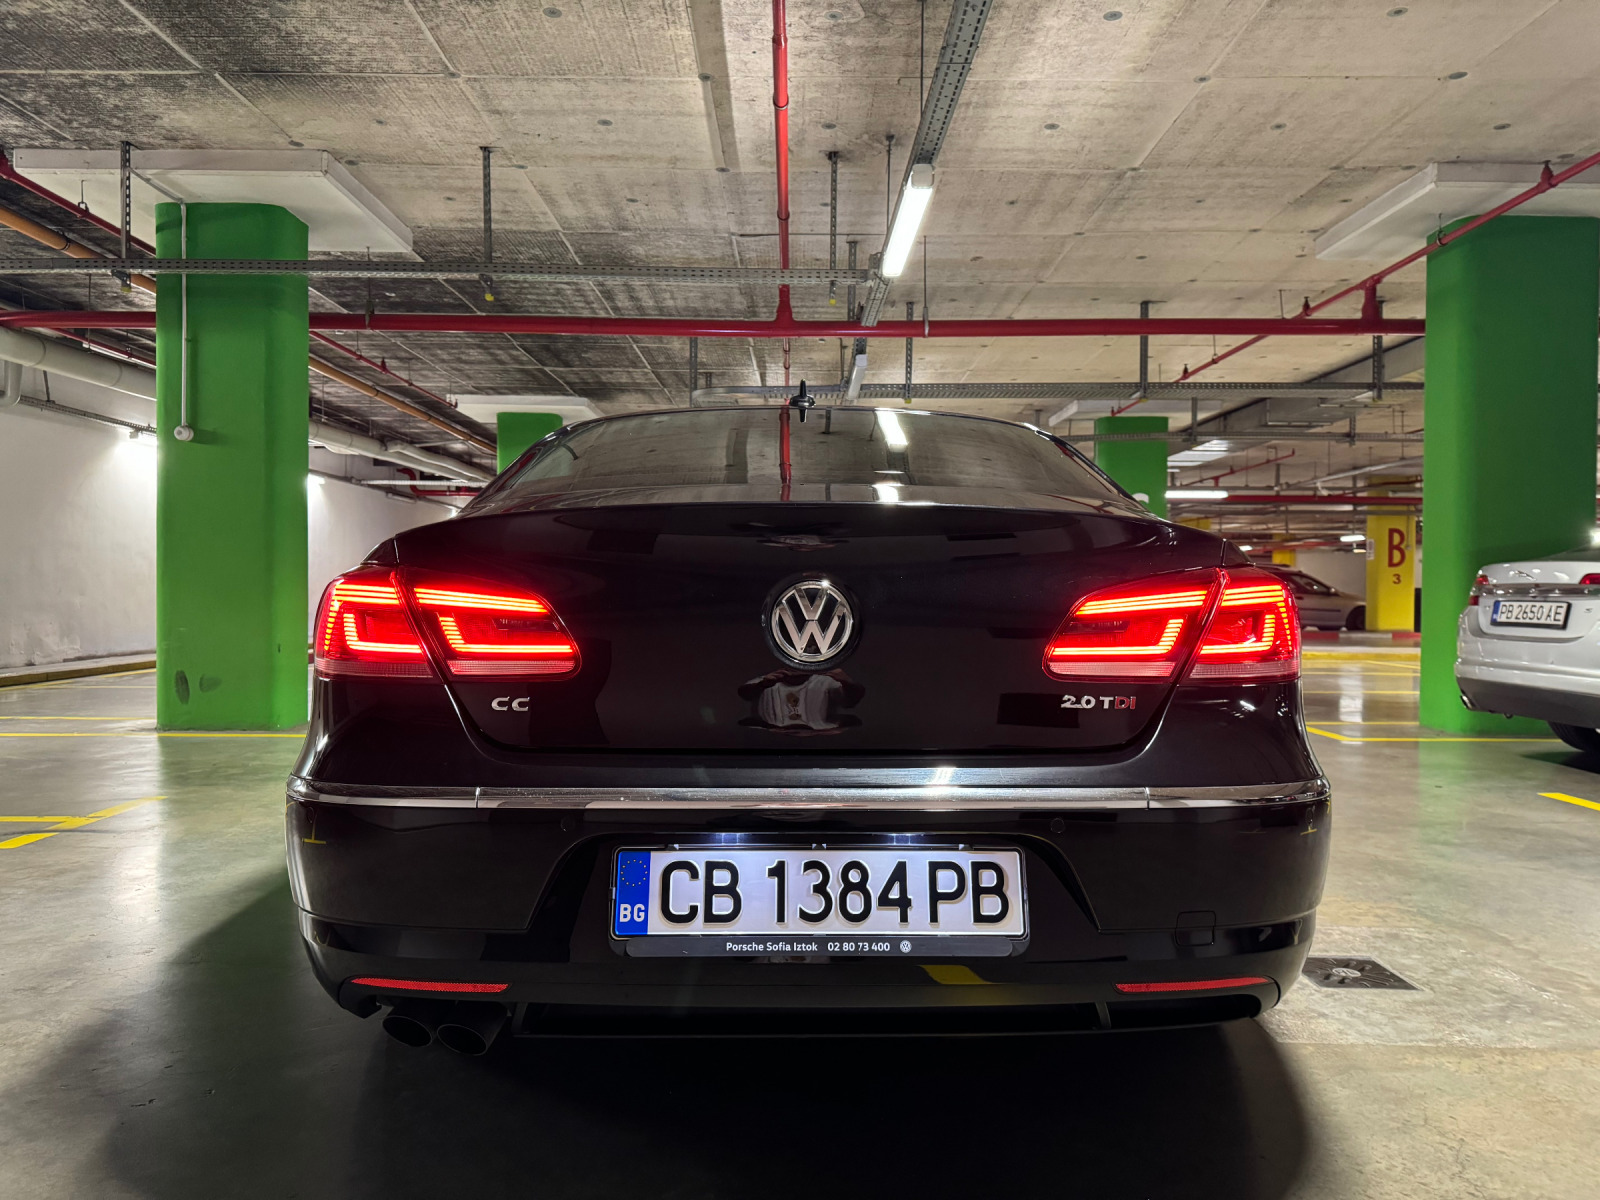registration_plate: (612, 846, 1029, 955), (1490, 601, 1569, 626)
